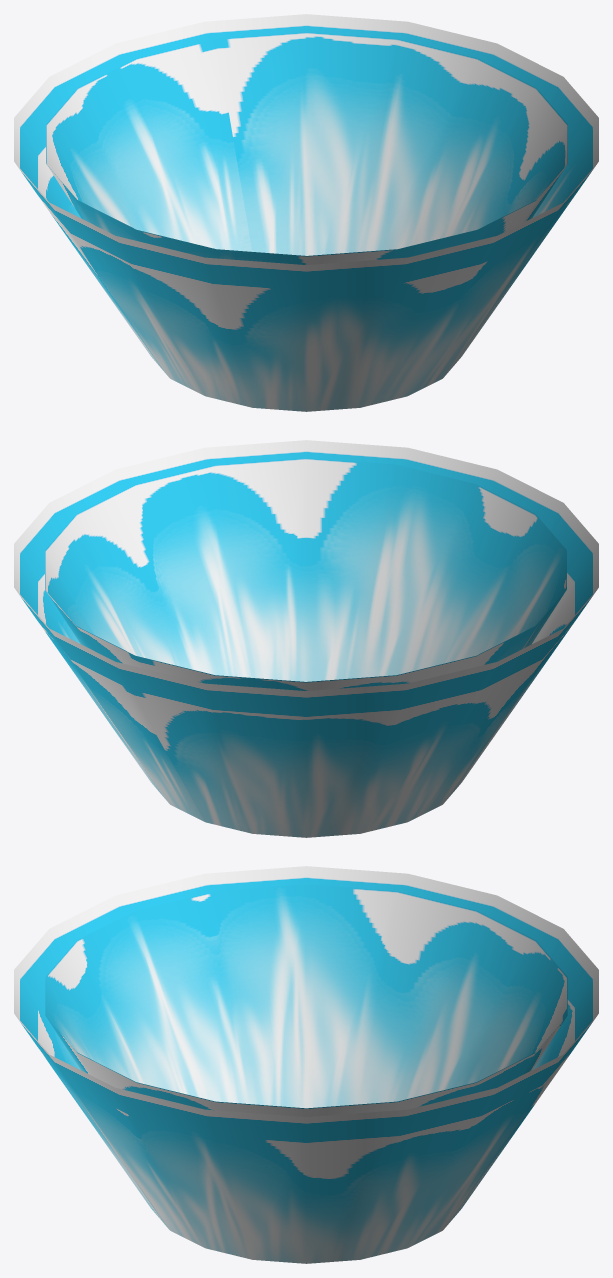
Rendered from RisingImpact.fbx.
3 renders of one model, top to bottom at view 1: azimuth 30°, elevation 25°; view 2: azimuth 150°, elevation 25°; view 3: azimuth 270°, elevation 25°, orthographic.
Parts seen in each view (by area): view 1: polymsh2; view 2: polymsh2; view 3: polymsh2.
Part boxes in pixels (x1,y1,x2,y2): polymsh2: (14,14,598,411); polymsh2: (14,440,598,837); polymsh2: (14,866,598,1263).
Size of the model in its own units: 10.25 by 4.02 by 10.1.
1 material, 1 textured.
